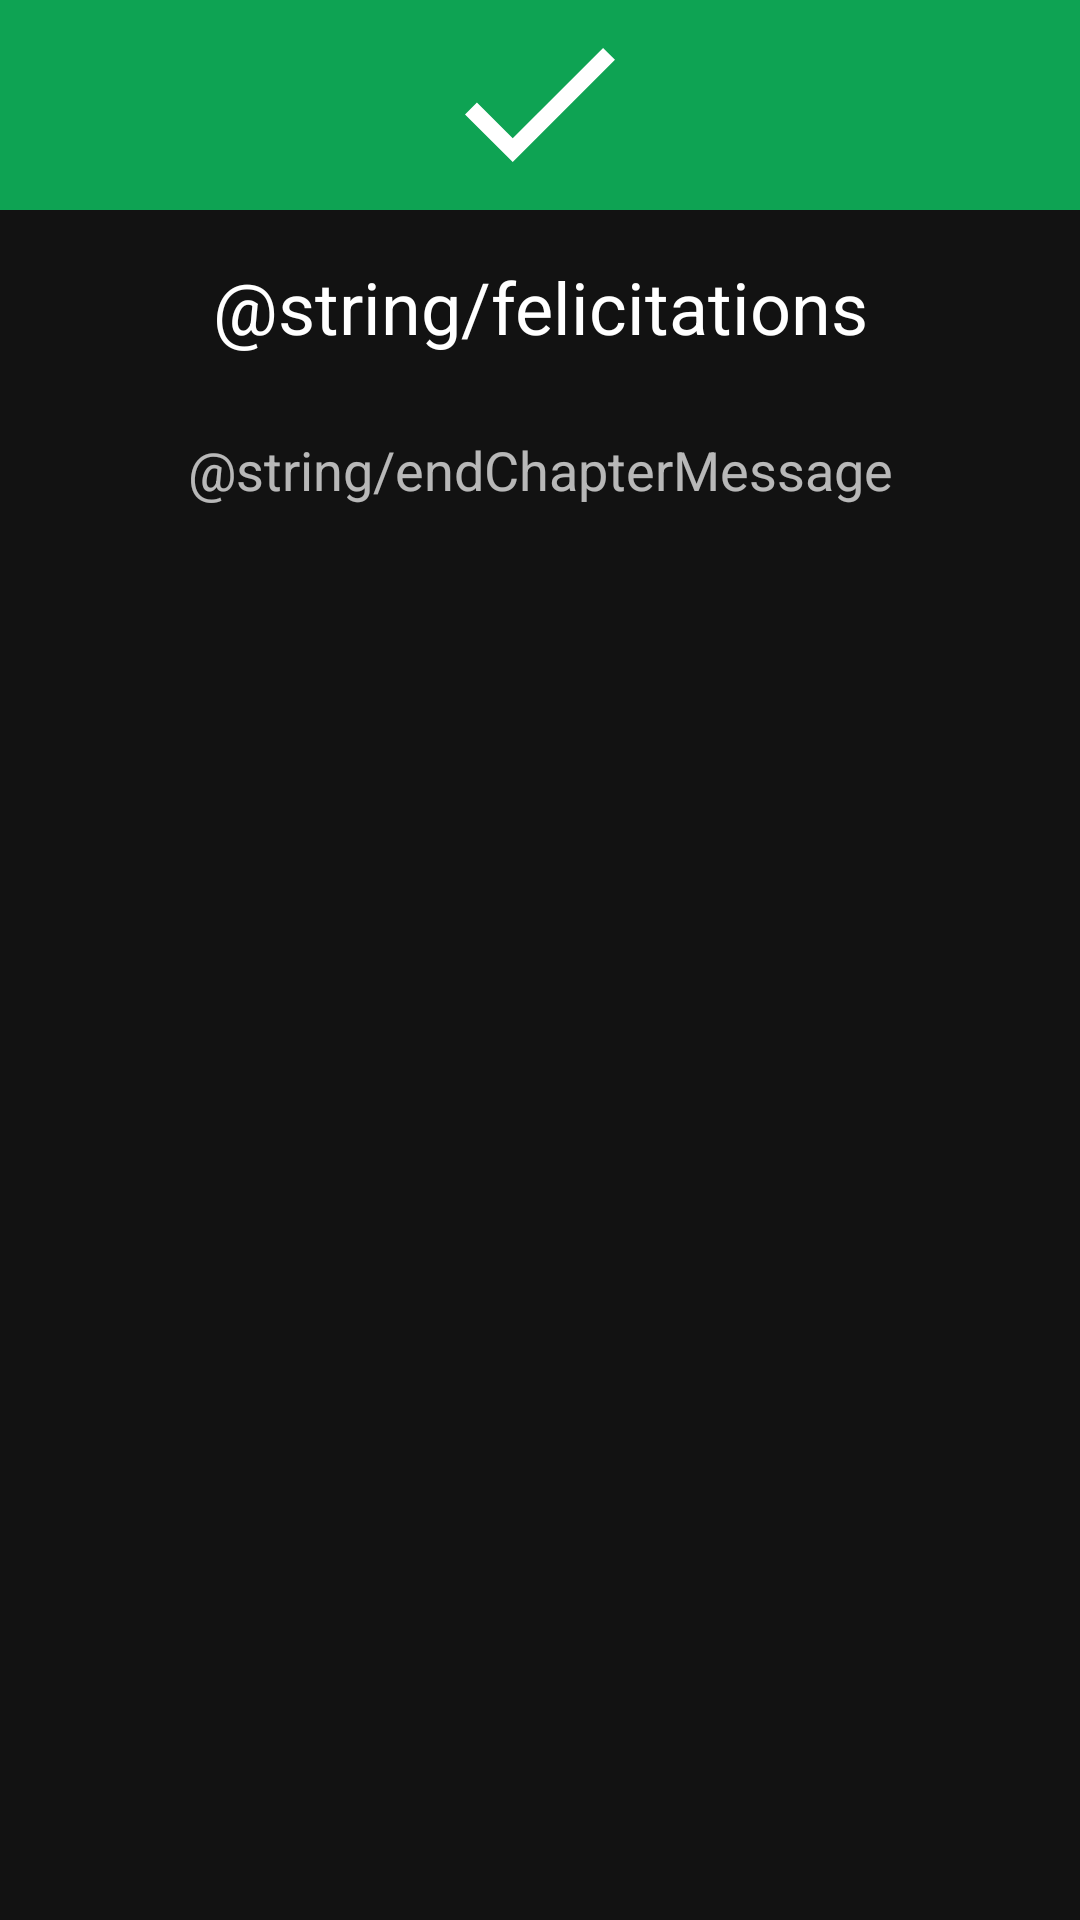

Screen size 1080px×1920px. Icon name, then its center in pixels as point (x, y):
check symbol: point (540, 105)
